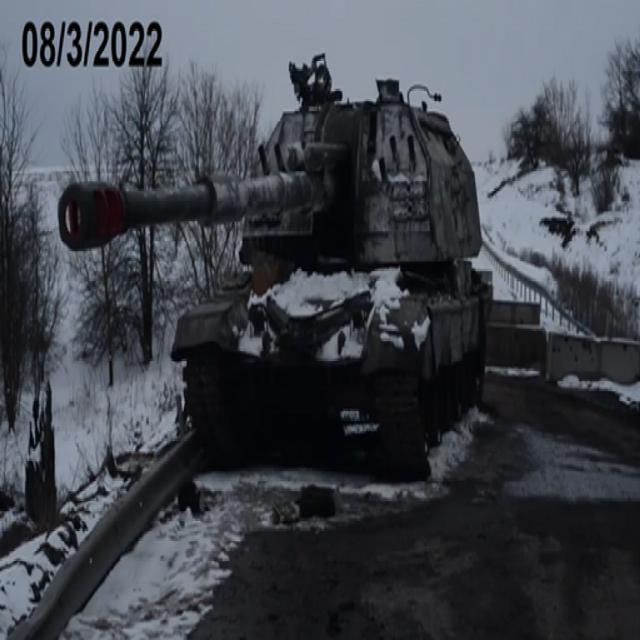ART: (58, 69, 498, 482)
